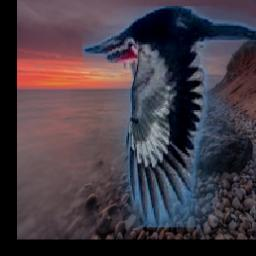Woodpecker: (82, 7, 256, 228)
